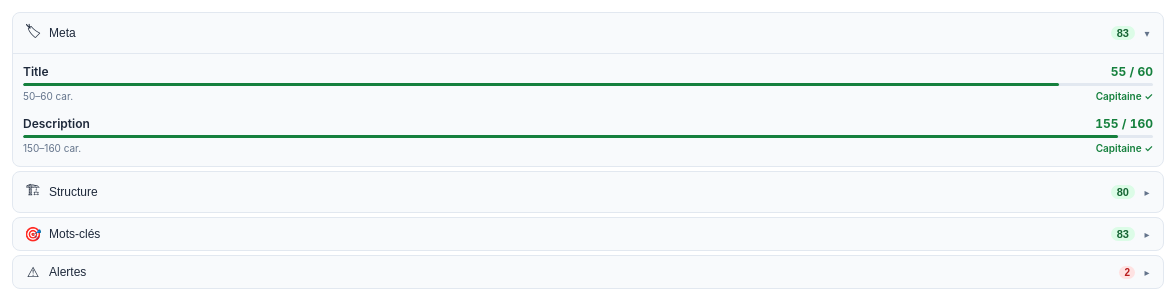
Test: IndicatorsTab › displays cannibalization warnings in alerts card
The width and height of the screenshot is (1176, 306).
What coordinates should you click on to do the following:
click the button with class "card-header" showing "⚠ Alertes 2 ▸"
I would click on:
 (68, 272)
Its box is [13,256,1163,288].
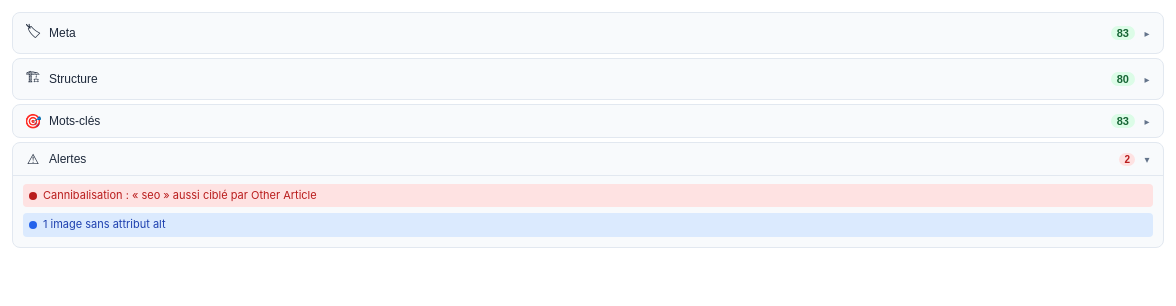
Expected: the text "Cannibalisation" is shown, [43,188,317,202]
Expected: the text "Other Article" is shown, [43,188,317,202]
